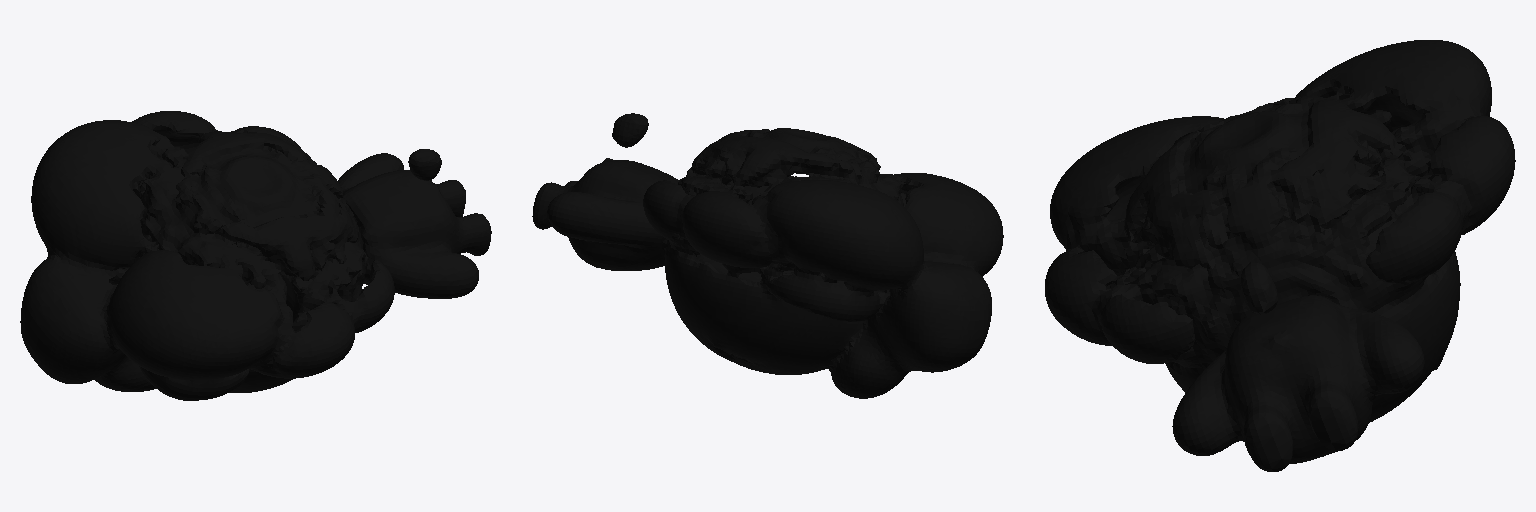
--- Render facts (derived) ---
3 views of the same robot in one strip: view 1: azimuth 30°, elevation 25°; view 2: azimuth 150°, elevation 25°; view 3: azimuth 270°, elevation 25° (orthographic).
Robot: jaco_robot — 25 links, 24 joints (5 revolute, 4 continuous, 15 fixed); root link robot_root; default pose: all joints at 0.
Visible links, largest first — view 1: jaco_6_hand_limb; view 2: jaco_6_hand_limb; view 3: jaco_6_hand_limb.
Boxes of the visible links, x1,y1,x2,y2 form: jaco_6_hand_limb: (20,111,491,400); jaco_6_hand_limb: (532,113,1003,398); jaco_6_hand_limb: (1045,40,1515,471).
Bounding box of the posed robot: 0.4548 × 0.3155 × 0.2316 m (x, y, z).
1 mesh visuals loaded from 1 distinct referenced files (1 OBJ).

robot.urdf — jaco_robot:
<?xml version="1.0" encoding="utf-8"?>
<!-- =================================================================================== -->
<!-- |    This document was autogenerated by xacro from urdf/jaco_robot.urdf.xacro     | -->
<!-- |    EDITING THIS FILE BY HAND IS NOT RECOMMENDED                                 | -->
<!-- =================================================================================== -->
<robot name="jaco_robot" xmlns:controller="http://playerstage.sourceforge.net/gazebo/xmlschema/#controller" xmlns:interface="http://playerstage.sourceforge.net/gazebo/xmlschema/#interface" xmlns:sensor="http://playerstage.sourceforge.net/gazebo/xmlschema/#sensor">
  <link name="robot_root">
  </link>
  <!-- fake cylinder which is actually a box -->
  <!--xacro:macro name="cyl_inertia" params="mass r h ">
      <mass value="${mass}"/>
      <inertia
      ixx="${mass / 12.0 * (r*r + h*h)}" ixy="0.0" ixz="0.0"
      iyy="${mass / 12.0 * (h*h + r*r)}" iyz="0.0"
      izz="${mass / 12.0 * (r*r + r*r)}"/>
  </xacro:macro-->
  <!-- ***************** MODEL CORRECTIONS ************************* -->
  <!-- *************************************************************** -->
  <!-- from measurements, pitch is -0.2293 -->
  <!-- MODEL_FIX transforms from wrist to finger mounts -->
  <!--<xacro:property name="f_thb_m_xyz" value=" 0.037  0.001  0.106" />
  <xacro:property name="f_idx_m_xyz" value="-0.034  0.022 0.106" />
  <xacro:property name="f_pnk_m_xyz" value="-0.034 -0.022 0.106" />
  <xacro:property name="f_thb_m_rpy" value="0 -0.2658 ${M_PI-0.226892}" /> 
  <xacro:property name="f_idx_m_rpy" value="0 -0.2293 -0.191986" />
  <xacro:property name="f_pnk_m_rpy" value="0 -0.2293 0.191986" />-->
  <joint name="jaco_arm_joint" type="fixed">
    <origin rpy="0 0 0" xyz="0 0 0"/>
    <parent link="robot_root"/>
    <child link="jaco_0_baseA"/>
  </joint>
  <!-- for some reason, material only applies if full name specified...
       these only seem to work in older gazebo versions -->
  <gazebo reference="jaco_ring_">
    <material>Gazebo/Grey</material>
    <implicitSpringDamper>1</implicitSpringDamper>
    <mu1>100000</mu1>
    <mu2>100000</mu2>
    <kp>100000000.0</kp>
    <kd>1.0</kd>
  </gazebo>
  <gazebo reference="_limb">
    <material>Gazebo/FlatBlack</material>
    <implicitSpringDamper>1</implicitSpringDamper>
    <mu1>100000</mu1>
    <mu2>100000</mu2>
    <kp>100000000.0</kp>
    <kd>1.0</kd>
  </gazebo>
  <gazebo reference="_finger">
    <material>Gazebo/Grey</material>
    <implicitSpringDamper>1</implicitSpringDamper>
    <mu1>100000</mu1>
    <mu2>100000</mu2>
    <kp>100000000.0</kp>
    <kd>1.0</kd>
  </gazebo>
  <!-- for some reason, material only applies if full name specified -->
  <gazebo reference="jaco_0_baseA">
    <material>Gazebo/White</material>
    <mu1>100000</mu1>
    <mu2>100000</mu2>
    <kp>100000000.0</kp>
    <kd>1.0</kd>
  </gazebo>
  <gazebo reference="jaco_0_baseB_limb">
    <material>Gazebo/FlatBlack</material>
    <mu1>100000</mu1>
    <mu2>100000</mu2>
    <kp>100000000.0</kp>
    <kd>1.0</kd>
  </gazebo>
  <gazebo reference="jaco_ring_1">
    <material>Gazebo/Grey</material>
    <mu1>100000</mu1>
    <mu2>100000</mu2>
    <kp>100000000.0</kp>
    <kd>1.0</kd>
  </gazebo>
  <gazebo reference="jaco_ring_2">
    <material>Gazebo/Grey</material>
    <mu1>100000</mu1>
    <mu2>100000</mu2>
    <kp>100000000.0</kp>
    <kd>1.0</kd>
  </gazebo>
  <gazebo reference="jaco_ring_3">
    <material>Gazebo/Grey</material>
    <mu1>100000</mu1>
    <mu2>100000</mu2>
    <kp>100000000.0</kp>
    <kd>1.0</kd>
  </gazebo>
  <gazebo reference="jaco_ring_4">
    <material>Gazebo/Grey</material>
    <mu1>100000</mu1>
    <mu2>100000</mu2>
    <kp>100000000.0</kp>
    <kd>1.0</kd>
  </gazebo>
  <gazebo reference="jaco_ring_5">
    <material>Gazebo/Grey</material>
    <mu1>100000</mu1>
    <mu2>100000</mu2>
    <kp>100000000.0</kp>
    <kd>1.0</kd>
  </gazebo>
  <gazebo reference="jaco_ring_6">
    <material>Gazebo/Grey</material>
    <mu1>100000</mu1>
    <mu2>100000</mu2>
    <kp>100000000.0</kp>
    <kd>1.0</kd>
  </gazebo>
  <gazebo reference="jaco_1_shoulder_limb">
    <material>Gazebo/FlatBlack</material>
    <mu1>100000</mu1>
    <mu2>100000</mu2>
    <kp>100000000.0</kp>
    <kd>1.0</kd>
  </gazebo>
  <gazebo reference="jaco_2_upperarm_limb">
    <material>Gazebo/FlatBlack</material>
    <mu1>100000</mu1>
    <mu2>100000</mu2>
    <kp>100000000.0</kp>
    <kd>1.0</kd>
  </gazebo>
  <gazebo reference="jaco_3_forearm_limb">
    <material>Gazebo/FlatBlack</material>
    <mu1>100000</mu1>
    <mu2>100000</mu2>
    <kp>100000000.0</kp>
    <kd>1.0</kd>
  </gazebo>
  <gazebo reference="jaco_4_upperwrist_limb">
    <material>Gazebo/FlatBlack</material>
    <mu1>100000</mu1>
    <mu2>100000</mu2>
    <kp>100000000.0</kp>
    <kd>1.0</kd>
  </gazebo>
  <gazebo reference="jaco_5_lowerwrist_limb">
    <material>Gazebo/FlatBlack</material>
    <mu1>100000</mu1>
    <mu2>100000</mu2>
    <kp>100000000.0</kp>
    <kd>1.0</kd>
  </gazebo>
  <gazebo reference="jaco_6_hand_limb">
    <material>Gazebo/FlatBlack</material>
    <mu1>100000</mu1>
    <mu2>100000</mu2>
    <kp>100000000.0</kp>
    <kd>1.0</kd>
  </gazebo>
  <gazebo reference="jaco_fingers_base_link">
    <material>Gazebo/FlatBlack</material>
    <mu1>100000</mu1>
    <mu2>100000</mu2>
    <kp>100000000.0</kp>
    <kd>1.0</kd>
  </gazebo>
  <gazebo reference="jaco_7_finger_mount_index">
    <material>Gazebo/FlatBlack</material>
    <mu1>100000</mu1>
    <mu2>100000</mu2>
    <kp>100000000.0</kp>
    <kd>1.0</kd>
  </gazebo>
  <gazebo reference="jaco_7_finger_mount_thumb">
    <material>Gazebo/FlatBlack</material>
    <mu1>100000</mu1>
    <mu2>100000</mu2>
    <kp>100000000.0</kp>
    <kd>1.0</kd>
  </gazebo>
  <gazebo reference="jaco_7_finger_mount_pinkie">
    <material>Gazebo/FlatBlack</material>
    <mu1>100000</mu1>
    <mu2>100000</mu2>
    <kp>100000000.0</kp>
    <kd>1.0</kd>
  </gazebo>
  <gazebo reference="jaco_8_finger_thumb">
    <material>Gazebo/Grey</material>
    <mu1>100000</mu1>
    <mu2>100000</mu2>
    <kp>100000000.0</kp>
    <kd>1.0</kd>
  </gazebo>
  <gazebo reference="jaco_8_finger_index">
    <material>Gazebo/Grey</material>
    <mu1>100000</mu1>
    <mu2>100000</mu2>
    <kp>100000000.0</kp>
    <kd>1.0</kd>
  </gazebo>
  <gazebo reference="jaco_8_finger_pinkie">
    <material>Gazebo/Grey</material>
    <mu1>100000</mu1>
    <mu2>100000</mu2>
    <kp>100000000.0</kp>
    <kd>1.0</kd>
  </gazebo>
  <gazebo reference="jaco_9_finger_thumb_tip">
    <material>Gazebo/Grey</material>
    <mu1>100000</mu1>
    <mu2>100000</mu2>
    <kp>100000000.0</kp>
    <kd>1.0</kd>
  </gazebo>
  <gazebo reference="jaco_9_finger_index_tip">
    <material>Gazebo/Grey</material>
    <mu1>100000</mu1>
    <mu2>100000</mu2>
    <kp>100000000.0</kp>
    <kd>1.0</kd>
  </gazebo>
  <gazebo reference="jaco_9_finger_pinkie_tip">
    <material>Gazebo/Grey</material>
    <mu1>100000</mu1>
    <mu2>100000</mu2>
    <kp>100000000.0</kp>
    <kd>1.0</kd>
  </gazebo>
  <gazebo reference="jaco_finger_joint_0">
    <provideFeedback value="true"/>
  </gazebo>
  <gazebo reference="jaco_finger_joint_2">
    <provideFeedback value="true"/>
  </gazebo>
  <gazebo reference="jaco_finger_joint_4">
    <provideFeedback value="true"/>
  </gazebo>
  <link name="jaco_0_baseA">
    <inertial>
      <origin rpy="0 0 0" xyz="0 0 0.03"/>
      <mass value="0.5688"/>
      <inertia ixx="0.000349289202838" ixy="0" ixz="0" iyy="0.000349289202838" iyz="0" izz="0.0003685824"/>
    </inertial>
    <visual>
      <origin rpy="0 0 0" xyz="0 0 0"/>
      <geometry>
        
      </geometry>
      <material name="">
        <color rgba="0.65 0.65 0.66 1"/>
      </material>
    </visual>
    <collision>
      <origin rpy="0 0 0" xyz="0 0 0"/>
      <geometry>
        
      </geometry>
    </collision>
  </link>
  <!-- ...........................        -->
  <link name="jaco_0_baseB_limb">
    <inertial>
      <origin rpy="0 0 0" xyz="0 0.04725 0"/>
      <mass value="0.5152"/>
      <inertia ixx="0.000589483042058" ixy="0" ixz="0" iyy="0.000589483042058" iyz="0" izz="0.00041216"/>
    </inertial>
    <visual>
      <origin rpy="0 0 0" xyz="0 0 0"/>
      <geometry>
        
      </geometry>
      <material name="">
        <color rgba="0.10 0.10 0.10 1"/>
      </material>
    </visual>
    <collision>
      <origin rpy="0 0 0" xyz="0 0 0"/>
      <geometry>
        
      </geometry>
    </collision>
  </link>
  <joint name="jaco_base_internal" type="fixed">
    <origin rpy="1.57079632679 0 0" xyz="0 0 0.049"/>
    <parent link="jaco_0_baseA"/>
    <child link="jaco_0_baseB_limb"/>
    <axis xyz="0 0 0"/>
  </joint>
  <link name="jaco_ring_1">
    <inertial>
      <origin rpy="0 0 0" xyz="-3.57503886452221E-16 -1.58125151997128E-15 -5.55111512312578E-17"/>
      <mass value="0.00872"/>
      <inertia ixx="3.778651552e-06" ixy="0" ixz="0" iyy="3.778651552e-06" iyz="0" izz="6.976e-06"/>
    </inertial>
    <visual>
      <origin rpy="0 0 0" xyz="0 0 0"/>
      <geometry>
        
      </geometry>
      <material name="">
        <color rgba="0.50 0.50 0.50 1"/>
      </material>
    </visual>
    <collision>
      <origin rpy="0 0 0" xyz="0 0 0"/>
      <geometry>
        
      </geometry>
    </collision>
  </link>
  <joint name="jaco_ring_1_joint" type="fixed">
    <origin rpy="-1.57079632679 0.211499083190217 -3.14159265359" xyz="0 0.104 0"/>
    <parent link="jaco_0_baseB_limb"/>
    <child link="jaco_ring_1"/>
    <axis xyz="0 0 0"/>
  </joint>
  <!-- ...........................        -->
  <link name="jaco_1_shoulder_limb">
    <inertial>
      <origin rpy="0 0 0" xyz="0.0120470281905243 0.0657132437750733 0"/>
      <mass value="0.4782"/>
      <inertia ixx="0.00119872305509" ixy="0" ixz="0" iyy="0.00119872305509" iyz="0" izz="0.00038256"/>
    </inertial>
    <visual>
      <origin rpy="0 0 0" xyz="0 0 0"/>
      <geometry>
        
      </geometry>
      <material name="">
        <color rgba="0.10 0.10 0.10 1"/>
      </material>
    </visual>
    <!--     <visual>
      <origin xyz="0 0 0" rpy="0 0 0" />
      <geometry>
        <sphere radius="0.005"/>
      </geometry>
      <material name="">
        <color rgba="0.10 0.10 0.10 1" />
      </material>
    </visual>
-->
    <collision>
      <origin rpy="0 0 0" xyz="0 0 0"/>
      <geometry>
        
      </geometry>
    </collision>
  </link>
  <joint name="jaco_arm_0_joint" type="continuous">
    <limit effort="8" velocity="1.0"/>
    <dynamics damping="0.5" friction="0.5"/>
    <origin rpy="0 1.57079632679 0" xyz="0 0.104 0"/>
    <parent link="jaco_0_baseB_limb"/>
    <child link="jaco_1_shoulder_limb"/>
    <axis xyz="0 1 0"/>
  </joint>
  <!-- ...........................        -->
  <link name="jaco_ring_2">
    <inertial>
      <origin rpy="0 0 0" xyz="0 0 0"/>
      <mass value="0.00872"/>
      <inertia ixx="3.778651552e-06" ixy="0" ixz="0" iyy="3.778651552e-06" iyz="0" izz="6.976e-06"/>
    </inertial>
    <visual>
      <origin rpy="0 0 0" xyz="-0.0005 -0.003 -0.001"/>
      <geometry>
        
      </geometry>
      <material name="">
        <color rgba="0.50 0.50 0.50 1"/>
      </material>
    </visual>
    <collision>
      <origin rpy="0 0 0" xyz="-0.0005 -0.003 -0.001"/>
      <geometry>
        
      </geometry>
    </collision>
  </link>
  <joint name="jaco_ring_2_joint" type="fixed">
    <origin rpy="-1.57079632679488 -1.49007956532211 1.57079632679488" xyz="0 0.1225 0"/>
    <parent link="jaco_1_shoulder_limb"/>
    <child link="jaco_ring_2"/>
    <axis xyz="0 0 0"/>
  </joint>
  <!-- ...........................        -->
  <link name="jaco_2_upperarm_limb">
    <inertial>
      <origin rpy="0 0 0" xyz="0.206003857152394 0 -0.0343672381612413"/>
      <mass value="1.37163"/>
      <inertia ixx="0.0282672380881" ixy="0" ixz="0" iyy="0.0282672380881" iyz="0" izz="0.001646641815"/>
    </inertial>
    <visual>
      <origin rpy="0 0 0" xyz="-0.003 -0.001 -0.001"/>
      <geometry>
        
      </geometry>
      <material name="">
        <color rgba="0.10 0.10 0.10 1"/>
      </material>
    </visual>
    <!--     <visual>
      <origin xyz="0 0 0" rpy="0 0 0" />
      <geometry>
        <sphere radius="0.005"/>
      </geometry>
      <material name="">
        <color rgba="0.10 0.10 0.10 1" />
      </material>
    </visual>
-->
    <collision>
      <origin rpy="0 0 0" xyz="-0.003 -0.001 -0.001"/>
      <geometry>
        
      </geometry>
    </collision>
  </link>
  <joint name="jaco_arm_1_joint" type="revolute">
    <dynamics damping="0.5" friction="0.5"/>
    <limit effort="8" lower="-3.943" upper="0.81" velocity="1.0"/>
    <origin rpy="3.14159265359 -1.57079632679 0" xyz="0 0.1225 0"/>
    <parent link="jaco_1_shoulder_limb"/>
    <child link="jaco_2_upperarm_limb"/>
    <axis xyz="0 0 1"/>
  </joint>
  <!-- ...........................        -->
  <link name="jaco_ring_3">
    <inertial>
      <origin rpy="0 0 0" xyz="0 0 0"/>
      <mass value="0.00872"/>
      <inertia ixx="3.778651552e-06" ixy="0" ixz="0" iyy="3.778651552e-06" iyz="0" izz="6.976e-06"/>
    </inertial>
    <visual>
      <origin rpy="0 0 0" xyz="0.001 0 0"/>
      <geometry>
        
      </geometry>
      <material name="">
        <color rgba="0.5 0.5 0.5 1"/>
      </material>
    </visual>
    <collision>
      <origin rpy="0 0 0" xyz="0.001 0 0"/>
      <geometry>
        
      </geometry>
    </collision>
  </link>
  <joint name="jaco_ring_3_joint" type="fixed">
    <origin rpy="3.14159265359 0 -3.14159265359" xyz="0.41 0 0"/>
    <parent link="jaco_2_upperarm_limb"/>
    <child link="jaco_ring_3"/>
    <axis xyz="0 0 0"/>
  </joint>
  <!-- ........................... -->
  <link name="jaco_3_forearm_limb">
    <inertial>
      <origin rpy="0 0 0" xyz="0.0857562490792731 1.94295959371482E-06 0.0203407295609686"/>
      <mass value="0.67592919"/>
      <inertia ixx="0.00340683847249" ixy="0" ixz="0" iyy="0.00340683847249" iyz="0" izz="0.000324783975795"/>
    </inertial>
    <visual>
      <origin rpy="0 0 0" xyz="0 0 0"/>
      <geometry>
        
      </geometry>
      <material name="">
        <color rgba="0.1 0.1 0.1 1"/>
      </material>
    </visual>
    <!--     <visual>
      <origin xyz="0 0 0" rpy="0 0 0" />
      <geometry>
        <sphere radius="0.005"/>
      </geometry>
      <material name="">
        <color rgba="0.10 0.10 0.10 1" />
      </material>
    </visual>
-->
    <collision>
      <origin rpy="0 0 0" xyz="0 0 0"/>
      <geometry>
        
      </geometry>
    </collision>
  </link>
  <joint name="jaco_arm_2_joint" type="revolute">
    <limit effort="4" lower="-4.395" upper="1.252" velocity="1.0"/>
    <dynamics damping="0.5" friction="0.5"/>
    <origin rpy="0 0 1.57079632679489" xyz="0.41 0 0"/>
    <parent link="jaco_2_upperarm_limb"/>
    <child link="jaco_3_forearm_limb"/>
    <axis xyz="0 0 1"/>
  </joint>
  <!-- ...........................        -->
  <link name="jaco_ring_4">
    <inertial>
      <origin rpy="0 0 0" xyz="0 0 0"/>
      <mass value="0.00676534123969"/>
      <inertia ixx="2.11472445691e-06" ixy="0" ixz="0" iyy="2.11472445691e-06" iyz="0" izz="3.68372830501e-06"/>
    </inertial>
    <visual>
      <origin rpy="0 0 0" xyz="0 0 0"/>
      <geometry>
        
      </geometry>
      <material name="">
        <color rgba="0.5 0.5 0.5 1"/>
      </material>
    </visual>
    <collision>
      <origin rpy="0 0 0" xyz="0 0 0"/>
      <geometry>
        
      </geometry>
    </collision>
  </link>
  <joint name="jaco_ring_4_joint" type="fixed">
    <origin rpy="3.14159265359 -1.57079632679 0" xyz="0.2073 0 0.0098"/>
    <parent link="jaco_3_forearm_limb"/>
    <child link="jaco_ring_4"/>
    <axis xyz="-1 0 0"/>
  </joint>
  <!-- ...........................        -->
  <link name="jaco_4_upperwrist_limb">
    <inertial>
      <origin rpy="0 0 0" xyz="-0.0371070560898082 -0.00912675248782567 -2.44092722145872E-08"/>
      <mass value="0.24550336286"/>
      <inertia ixx="0.000272235953438" ixy="0" ixz="0" iyy="0.000272235953438" iyz="0" izz="0.000135301813339"/>
    </inertial>
    <visual>
      <origin rpy="0 0 0" xyz="0 0 0"/>
      <geometry>
        
      </geometry>
      <material name="">
        <color rgba="0.1 0.1 0.1 1"/>
      </material>
    </visual>
    <!--     <visual>
      <origin xyz="0 0 0" rpy="0 0 0" />
      <geometry>
        <sphere radius="0.005"/>
      </geometry>
      <material name="">
        <color rgba="0.10 0.10 0.10 1" />
      </material>
    </visual>
-->
    <collision>
      <origin rpy="0 0 0" xyz="0 0 0"/>
      <geometry>
        
      </geometry>
    </collision>
  </link>
  <joint name="jaco_arm_3_joint" type="continuous">
    <limit effort="1.5" velocity="1.0"/>
    <dynamics damping="0.05" friction="0.05"/>
    <origin rpy="-1.57079632679484 0 -3.14159265358951" xyz="0.2073 0 0.0098"/>
    <parent link="jaco_3_forearm_limb"/>
    <child link="jaco_4_upperwrist_limb"/>
    <axis xyz="-1 0 0"/>
  </joint>
  <!-- ...........................        -->
  <link name="jaco_ring_5">
    <inertial>
      <origin rpy="0 0 0" xyz="-1.54831009124834E-13 4.27435864480685E-15 -2.58654209162046E-13"/>
      <mass value="0.00676534123969"/>
      <inertia ixx="2.11472445691e-06" ixy="0" ixz="0" iyy="2.11472445691e-06" iyz="0" izz="3.68372830501e-06"/>
    </inertial>
    <visual>
      <origin rpy="0 0 0" xyz="0 0 0"/>
      <geometry>
        
      </geometry>
      <material name="">
        <color rgba="0.5 0.5 0.5 1"/>
      </material>
    </visual>
    <collision>
      <origin rpy="0 0 0" xyz="0 0 0"/>
      <geometry>
        
      </geometry>
    </collision>
  </link>
  <joint name="jaco_ring_5_joint" type="fixed">
    <origin rpy="-1.57079632679506 0 -0.610865238196312" xyz="-0.06590490 -0.034307921 0"/>
    <parent link="jaco_4_upperwrist_limb"/>
    <child link="jaco_ring_5"/>
    <axis xyz="-1 0 0"/>
  </joint>
  <!-- ...........................        -->
  <link name="jaco_5_lowerwrist_limb">
    <inertial>
      <origin rpy="0 0 0" xyz="-0.0176083455436658 -0.00912672231835664 -5.99117305766228E-09"/>
      <mass value="0.2455"/>
      <inertia ixx="0.0002722322244" ixy="0" ixz="0" iyy="0.0002722322244" iyz="0" izz="0.00013529996"/>
    </inertial>
    <visual>
      <origin rpy="0 0 0" xyz="-0.01715 0 0"/>
      <geometry>
        
      </geometry>
      <material name="">
        <color rgba="0.1 0.1 0.1 1"/>
      </material>
    </visual>
    <!--     <visual>
      <origin xyz="0 0 0" rpy="0 0 0" />
      <geometry>
        <sphere radius="0.005"/>
      </geometry>
      <material name="">
        <color rgba="0.10 0.10 0.10 1" />
      </material>
    </visual>
-->
    <collision>
      <origin rpy="0 0 0" xyz="-0.01715 0 0"/>
      <geometry>
        
      </geometry>
    </collision>
  </link>
  <joint name="jaco_arm_4_joint" type="continuous">
    <limit effort="1.0" velocity="1.0"/>
    <dynamics damping="0.05" friction="0.05"/>
    <!-- caluclated form DH-Parameter documentation. An iscoceles triangle with tip angle 55 degrees has base angles (gamma) 62.5.
       Base has length 74.3. Then sin(gamma)=y/74.3 and cos(gamma)=x/74.3, hence y=65.90590 and x=34.307921963  -->
    <origin rpy="0 0 0.959931089" xyz="-0.06590490 -0.034307921 0"/>
    <parent link="jaco_4_upperwrist_limb"/>
    <child link="jaco_5_lowerwrist_limb"/>
    <axis xyz="-1 0 0"/>
  </joint>
  <!-- ...........................        -->
  <link name="jaco_ring_6">
    <inertial>
      <origin rpy="0 0 0" xyz="2.12629684692711E-10 7.53045514834128E-10 3.03666577994299E-10"/>
      <mass value="0.00676"/>
      <inertia ixx="2.11305488108e-06" ixy="0" ixz="0" iyy="2.11305488108e-06" iyz="0" izz="3.68082e-06"/>
    </inertial>
    <visual>
      <origin rpy="0 0 0" xyz="-0.001 0 0"/>
      <geometry>
        
      </geometry>
      <material name="">
        <color rgba="0.5 0.5 0.5 1"/>
      </material>
    </visual>
    <collision>
      <origin rpy="0 0 0" xyz="-0.001 0 0"/>
      <geometry>
        
      </geometry>
    </collision>
  </link>
  <joint name="jaco_ring_6_joint" type="fixed">
    <origin rpy="1.57079632679 0 2.53072741539211 " xyz="-0.06590490 -0.034307921 0"/>
    <parent link="jaco_5_lowerwrist_limb"/>
    <child link="jaco_ring_6"/>
    <axis xyz="0 0 0"/>
  </joint>
  <!-- ...........................        -->
  <link name="jaco_6_hand_limb">
    <inertial>
      <origin rpy="0 0 0" xyz="-0.0555917045329114 -7.25586546752172E-05 -0.00317411883668722"/>
      <mass value="0.2"/>
      <inertia ixx="0.0007852635256" ixy="0" ixz="0" iyy="0.0007852635256" iyz="0" izz="0.00121"/>
    </inertial>
    <visual>
      <origin rpy="0 0 0" xyz="0 0 0"/>
      <geometry>
        <mesh filename="package://hanyang_description/meshes/model_normalized.obj"/>
      </geometry>
      <material name="">
        <color rgba="0.1 0.1 0.1 1"/>
      </material>
    </visual>
    <!--     <visual>
      <origin xyz="0 0 0" rpy="0 0 0" />
      <geometry>
        <sphere radius="0.005"/>
      </geometry>
      <material name="">
        <color rgba="0.10 0.10 0.10 1" />
      </material>
    </visual>
-->
    <collision>
      <origin rpy="0 0 0" xyz="0 0 0"/>
      <geometry>
        
      </geometry>
    </collision>
  </link>
  <joint name="jaco_arm_5_joint" type="continuous">
    <limit effort="1.0" velocity="1.0"/>
    <dynamics damping="0.05" friction="0.05"/>
    <!-- added some experimental angle changes to the arm wrist, as this was not accurate .. tried to touch the base with the hand, and it didn't look the same
    in rviz. I tuned the values so rviz would show same position. However, it's likely this can be better fine tuned -->
    <origin rpy="-1.57079632679 0 0.959931089" xyz="-0.06590490 -0.034307921 0"/>
    <parent link="jaco_5_lowerwrist_limb"/>
    <child link="jaco_6_hand_limb"/>
    <axis xyz="-1 0 0"/>
  </joint>
  <link name="jaco_fingers_base_link">
    <inertial>
      <origin rpy="0 0 0" xyz="0 0 0"/>
      <mass value="0.001"/>
      <inertia ixx="3.33332e-08" ixy="0" ixz="0" iyy="3.33332e-08" iyz="0" izz="5e-08"/>
    </inertial>
  </link>
  <!-- this joint is only to align the coordinate system with the kinova specification frame -->
  <joint name="jaco_fingers_base_joint" type="fixed">
    <origin rpy="-1.57079632679 3.14159265359 1.57079632679" xyz="0 0 0"/>
    <parent link="jaco_6_hand_limb"/>
    <child link="jaco_fingers_base_link"/>
  </joint>
  <!-- ...........................  -->
  <!--      FINGERS          -->
  <!-- ...........................  -->
  <link name="jaco_7_finger_mount_index">
    <inertial>
      <origin rpy="0 0 0" xyz="0 0.00706399246397285 -0.00176078508424846"/>
      <mass value="0.006465"/>
      <inertia ixx="7.8441686232e-07" ixy="0" ixz="0" iyy="7.8441686232e-07" iyz="0" izz="1.04733e-06"/>
    </inertial>
    <visual>
      <origin rpy="1.57079632679 0 1.57079632679" xyz="0 0 0"/>
      <geometry>
        
      </geometry>
      <material name="">
        <color rgba="0.5 0.5 0.5 1"/>
      </material>
    </visual>
    <collision>
      <origin rpy="1.57079632679 0 1.57079632679" xyz="0 0 0"/>
      <geometry>
        
      </geometry>
    </collision>
  </link>
  <joint name="jaco_finger_mount_index_fixed" type="fixed">
    <!--- remark 2014: damping greater than 0.1 (0.2) lead to model break downs when testing it bit by bit -->
    <!--- remark jan 2016: damping and friction higher than 0.005 required very high forces in order for the fingers
              to move at all, and then they mooved only slowly. -->
    <!--dynamics damping="0.1" friction="1.0"/-->
    <dynamics damping="0.005" friction="0.005"/>
    <origin rpy="0 -0.2293 -0.191986" xyz="-0.034  0.022 0.095"/>
    <parent link="jaco_fingers_base_link"/>
    <child link="jaco_7_finger_mount_index"/>
    <axis xyz="0 0 0"/>
  </joint>
  <!-- ...........................        -->
  <link name="jaco_8_finger_index">
    <inertial>
      <origin rpy="0 0 0" xyz="-0.0181403689626489 0 0.00272470933850985"/>
      <mass value="0.01845"/>
      <inertia ixx="6.37560262249e-06" ixy="0" ixz="0" iyy="6.37560262249e-06" iyz="0" izz="1.68125625e-06"/>
    </inertial>
    <!--     <visual>
      <origin xyz="0 0 0" rpy="0 0 0" />
      <geometry>
        <sphere radius="0.005"/>
      </geometry>
      <material name="">
        <color rgba="0.10 0.10 0.10 1" />
      </material>
    </visual>
-->
    <visual>
      <origin rpy="3.14159265359 1.1780972445 0" xyz="0 0 0"/>
      <geometry>
        
      </geometry>
      <material name="">
        <color rgba="0.50 0.50 0.50 1"/>
      </material>
    </visual>
    <collision>
      <origin rpy="3.14159265359 1.1780972445 0" xyz="0 0 0"/>
      <geometry>
        
      </geometry>
    </collision>
  </link>
  <joint name="jaco_finger_joint_0" type="revolute">
    <!--- remark 2014: damping greater than 0.1 (0.2) lead to model break downs when testing it bit by bit -->
    <!--- remark jan 2016: damping and friction higher than 0.005 required very high forces in order for the fingers
              to move at all, and then they mooved only slowly. -->
    <!--dynamics damping="0.1" friction="1.0"/-->
    <dynamics damping="0.005" friction="0.005"/>
    <origin rpy="0 -0.34 -0.191986" xyz="-0.0276  0.0204 0.11"/>
    <parent link="jaco_fingers_base_link"/>
    <child link="jaco_8_finger_index"/>
    <axis xyz="0 1 0"/>
    <limit effort="1.5" lower="-0.0045" upper="1.05" velocity="0.2"/>
  </joint>
  <!-- ...........................        -->
  <link name="jaco_9_finger_index_tip">
    <inertial>
      <origin rpy="0 0 0" xyz="-0.01340812509202 -4.52693266978291E-07 0.0118561361126153"/>
      <mass value="0.0122"/>
      <inertia ixx="2.6850059266e-06" ixy="0" ixz="0" iyy="2.6850059266e-06" iyz="0" izz="8.784e-07"/>
    </inertial>
    <!--     <visual>
      <origin xyz="0 0 0" rpy="0 0 0" />
      <geometry>
        <sphere radius="0.005"/>
      </geometry>
      <material name="">
        <color rgba="0.10 0.10 0.10 1" />
      </material>
    </visual>
-->
    <visual>
      <origin rpy="0 1.57079632679 3.14159265359" xyz="0 0 0"/>
      <geometry>
        
      </geometry>
      <material name="">
        <color rgba="0.5 0.5 0.5 1"/>
      </material>
    </visual>
    <collision>
      <origin rpy="0 1.57079632679 3.14159265359" xyz="0 0 0"/>
      <geometry>
        
      </geometry>
    </collision>
  </link>
  <joint name="jaco_finger_joint_1" type="fixed">
    <!--- remark 2014: damping greater than 0.1 (0.2) lead to model break downs when testing it bit by bit -->
    <!--- remark jan 2016: damping and friction higher than 0.005 required very high forces in order for the fingers
              to move at all, and then they mooved only slowly. -->
    <!--dynamics damping="0.1" friction="1.0"/-->
    <dynamics damping="0.005" friction="0.005"/>
    <origin rpy="0 0 0" xyz="0 0 0.0441"/>
    <parent link="jaco_8_finger_index"/>
    <child link="jaco_9_finger_index_tip"/>
  </joint>
  <!-- ...........................        -->
  <link name="jaco_7_finger_mount_thumb">
    <inertial>
      <origin rpy="0 0 0" xyz="-2.65251193937339E-07 0.00706398229186052 -0.00176078674955921"/>
      <mass value="0.006465"/>
      <inertia ixx="7.8441686232e-07" ixy="0" ixz="0" iyy="7.8441686232e-07" iyz="0" izz="1.04733e-06"/>
    </inertial>
    <visual>
      <origin rpy="1.57079632679 0 1.57079632679" xyz="0 0 0"/>
      <geometry>
        
      </geometry>
      <material name="">
        <color rgba="0.50 0.50 0.50 1"/>
      </material>
    </visual>
    <collision>
      <origin rpy="1.57079632679 0 1.57079632679" xyz="0 0 0"/>
      <geometry>
        
      </geometry>
    </collision>
  </link>
  <joint name="jaco_finger_mount_thumb_fixed" type="fixed">
    <!--- remark 2014: damping greater than 0.1 (0.2) lead to model break downs when testing it bit by bit -->
    <!--- remark jan 2016: damping and friction higher than 0.005 required very high forces in order for the fingers
              to move at all, and then they mooved only slowly. -->
    <!--dynamics damping="0.1" friction="1.0"/-->
    <dynamics damping="0.005" friction="0.005"/>
    <origin rpy="0 -0.2658 2.91470065359" xyz=" 0.037  0.001  0.095"/>
    <parent link="jaco_fingers_base_link"/>
    <child link="jaco_7_finger_mount_thumb"/>
  </joint>
  <!-- ...........................        -->
  <link name="jaco_8_finger_thumb">
    <inertial>
      <origin rpy="0 0 0" xyz="-0.0181403317517619 -3.13818432741766E-07 0.00272473343106584"/>
      <mass value="0.0184"/>
      <inertia ixx="6.3583245666e-06" ixy="0" ixz="0" iyy="6.3583245666e-06" iyz="0" izz="1.6767e-06"/>
    </inertial>
    <!--     <visual>
      <origin xyz="0 0 0" rpy="0 0 0" />
      <geometry>
        <sphere radius="0.005"/>
      </geometry>
      <material name="">
        <color rgba="0.10 0.10 0.10 1" />
      </material>
    </visual>
-->
    <visual>
      <origin rpy="3.14159265359 1.1780972445 0" xyz="0 0 0"/>
      <geometry>
        
      </geometry>
      <material name="">
        <color rgba="0.5 0.5 0.5 1"/>
      </material>
    </visual>
    <collision>
      <origin rpy="3.14159265359 1.1780972445 0" xyz="0 0 0"/>
      <geometry>
        
      </geometry>
    </collision>
  </link>
  <joint name="jaco_finger_joint_2" type="revolute">
    <!--- remark 2014: damping greater than 0.1 (0.2) lead to model break downs when testing it bit by bit -->
    <!--- remark jan 2016: damping and friction higher than 0.005 required very high forces in order for the fingers
              to move at all, and then they mooved only slowly. -->
    <!--dynamics damping="0.1" friction="1.0"/-->
    <dynamics damping="0.005" friction="0.005"/>
    <origin rpy="0 -0.37 2.91470065359" xyz=" 0.0319  0.003  0.11"/>
    <parent link="jaco_fingers_base_link"/>
    <child link="jaco_8_finger_thumb"/>
    <axis xyz="0 1 0"/>
    <limit effort="1.5" lower="-0.0045" upper="1.05" velocity="0.2"/>
  </joint>
  <!-- ...........................        -->
  <link name="jaco_9_finger_thumb_tip">
    <inertial>
      <origin rpy="0 0 0" xyz="-0.0134080639046228 -4.56622786070351E-07 0.0118561154422042"/>
      <mass value="0.0122"/>
      <inertia ixx="2.6850059266e-06" ixy="0" ixz="0" iyy="2.6850059266e-06" iyz="0" izz="8.784e-07"/>
    </inertial>
    <visual>
      <origin rpy="0 1.57079632679 3.14159265359" xyz="0 0 0"/>
      <geometry>
        
      </geometry>
      <material name="">
        <color rgba="0.5 0.5 0.5 1"/>
      </material>
    </visual>
    <collision>
      <origin rpy="0 1.57079632679 3.14159265359" xyz="0 0 0"/>
      <geometry>
        
      </geometry>
    </collision>
  </link>
  <joint name="jaco_finger_joint_3" type="fixed">
    <!--- remark 2014: damping greater than 0.1 (0.2) lead to model break downs when testing it bit by bit -->
    <!--- remark jan 2016: damping and friction higher than 0.005 required very high forces in order for the fingers
              to move at all, and then they mooved only slowly. -->
    <!--dynamics damping="0.1" friction="1.0"/-->
    <dynamics damping="0.005" friction="0.005"/>
    <origin rpy="0 0 0" xyz="0 0 0.0441"/>
    <parent link="jaco_8_finger_thumb"/>
    <child link="jaco_9_finger_thumb_tip"/>
  </joint>
  <!-- ...........................        -->
  <link name="jaco_7_finger_mount_pinkie">
    <inertial>
      <origin rpy="0 0 0" xyz="0 0.00706399455294665 -0.00176077690193762"/>
      <mass value="0.00646"/>
      <inertia ixx="7.8381019808e-07" ixy="0" ixz="0" iyy="7.8381019808e-07" iyz="0" izz="1.04652e-06"/>
    </inertial>
    <visual>
      <origin rpy="1.57079632679 0 1.57079632679" xyz="0 0 0"/>
      <geometry>
        
      </geometry>
      <material name="">
        <color rgba="0.5 0.5 0.5 1"/>
      </material>
    </visual>
    <collision>
      <origin rpy="1.57079632679 0 1.57079632679" xyz="0 0 0"/>
      <geometry>
        
      </geometry>
    </collision>
  </link>
  <joint name="jaco_finger_mount_pinkie_fixed" type="fixed">
    <!--- remark 2014: damping greater than 0.1 (0.2) lead to model break downs when testing it bit by bit -->
    <!--- remark jan 2016: damping and friction higher than 0.005 required very high forces in order for the fingers
              to move at all, and then they mooved only slowly. -->
    <!--dynamics damping="0.1" friction="1.0"/-->
    <dynamics damping="0.005" friction="0.005"/>
    <origin rpy="0 -0.2293 0.191986" xyz="-0.034 -0.022 0.095"/>
    <parent link="jaco_fingers_base_link"/>
    <child link="jaco_7_finger_mount_pinkie"/>
  </joint>
  <!-- ...........................        -->
  <link name="jaco_8_finger_pinkie">
    <inertial>
      <origin rpy="0 0 0" xyz="-0.0181404164708055 -2.87009015777565E-07 0.00272467774606585"/>
      <mass value="0.01845"/>
      <inertia ixx="6.37560262249e-06" ixy="0" ixz="0" iyy="6.37560262249e-06" iyz="0" izz="1.68125625e-06"/>
    </inertial>
    <!--     <visual>
      <origin xyz="0 0 0" rpy="0 0 0" />
      <geometry>
        <sphere radius="0.005"/>
      </geometry>
      <material name="">
        <color rgba="0.10 0.10 0.10 1" />
      </material>
    </visual>
-->
    <visual>
      <origin rpy="3.14159265359 1.1780972445 0" xyz="0 0 0"/>
      <geometry>
        
      </geometry>
      <material name="">
        <color rgba="0.5 0.5 0.5 1"/>
      </material>
    </visual>
    <collision>
      <origin rpy="3.14159265359 1.1780972445 0" xyz="0 0 0"/>
      <geometry>
        
      </geometry>
    </collision>
  </link>
  <joint name="jaco_finger_joint_4" type="revolute">
    <!--- remark 2014: damping greater than 0.1 (0.2) lead to model break downs when testing it bit by bit -->
    <!--- remark jan 2016: damping and friction higher than 0.005 required very high forces in order for the fingers
              to move at all, and then they mooved only slowly. -->
    <!--dynamics damping="0.1" friction="1.0"/-->
    <dynamics damping="0.005" friction="0.005"/>
    <origin rpy="0 -0.34 0.191986" xyz="-0.0276 -0.0204 0.11"/>
    <parent link="jaco_fingers_base_link"/>
    <child link="jaco_8_finger_pinkie"/>
    <axis xyz="0 1 0"/>
    <limit effort="1.5" lower="-0.0045" upper="1.05" velocity="0.2"/>
  </joint>
  <!-- ...........................        -->
  <link name="jaco_9_finger_pinkie_tip">
    <inertial>
      <origin rpy="0 0 0" xyz="-0.0134 0 0.01185"/>
      <mass value="0.0122"/>
      <inertia ixx="2.6850059266e-06" ixy="0" ixz="0" iyy="2.6850059266e-06" iyz="0" izz="8.784e-07"/>
    </inertial>
    <visual>
      <origin rpy="0 1.57079632679 3.14159265359" xyz="0 0 0"/>
      <geometry>
        
      </geometry>
      <material name="">
        <color rgba="0.5 0.5 0.5 1"/>
      </material>
    </visual>
    <collision>
      <origin rpy="0 1.57079632679 3.14159265359" xyz="0 0 0"/>
      <geometry>
        
      </geometry>
    </collision>
  </link>
  <joint name="jaco_finger_joint_5" type="fixed">
    <!--- remark 2014: damping greater than 0.1 (0.2) lead to model break downs when testing it bit by bit -->
    <!--- remark jan 2016: damping and friction higher than 0.005 required very high forces in order for the fingers
              to move at all, and then they mooved only slowly. -->
    <!--dynamics damping="0.1" friction="1.0"/-->
    <dynamics damping="0.005" friction="0.005"/>
    <origin rpy="0 0 0" xyz="0 0 0.0441"/>
    <parent link="jaco_8_finger_pinkie"/>
    <child link="jaco_9_finger_pinkie_tip"/>
  </joint>
</robot>
